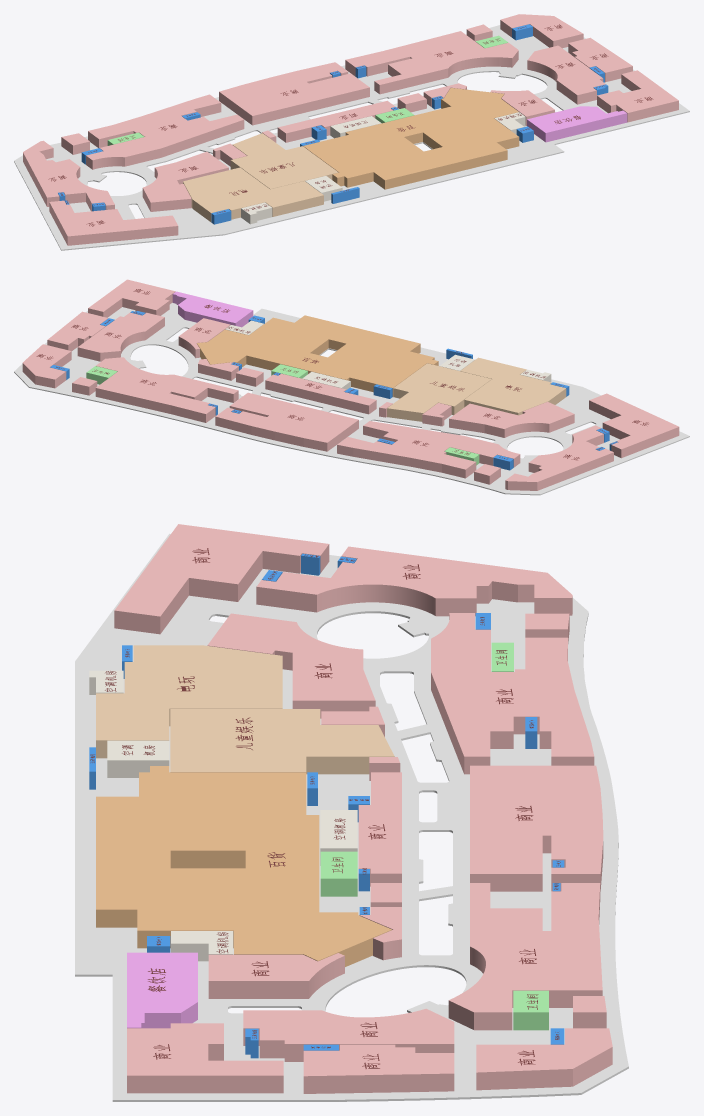
File: 广州万达_2F.fbx
3 views of the same model, one above another, from view 1: azimuth 30°, elevation 25°; view 2: azimuth 150°, elevation 25°; view 3: azimuth 270°, elevation 25° (orthographic). The views are drawn at different scales.
Visible parts, largest first — view 1: 商业, 楼板, 百货, 电玩, 儿童娱乐, 强弱电间, 餐饮, 设备房, 卫生间; view 2: 商业, 楼板, 百货, 儿童娱乐, 电玩, 餐饮, 强弱电间, 设备房, 卫生间; view 3: 商业, 楼板, 百货, 儿童娱乐, 电玩, 设备房, 餐饮, 强弱电间, 卫生间.
Part boxes in pixels (left/top/right/bottom): 商业: left=23, top=14, right=678, bottom=245; 楼板: left=14, top=25, right=689, bottom=250; 百货: left=303, top=88, right=519, bottom=189; 电玩: left=183, top=167, right=323, bottom=221; 儿童娱乐: left=230, top=133, right=338, bottom=189; 强弱电间: left=58, top=24, right=608, bottom=224; 餐饮: left=527, top=106, right=627, bottom=142; 设备房: left=241, top=112, right=525, bottom=224; 卫生间: left=107, top=35, right=507, bottom=145; 商业: left=22, top=279, right=679, bottom=490; 楼板: left=14, top=302, right=689, bottom=495; 百货: left=197, top=315, right=438, bottom=396; 儿童娱乐: left=387, top=363, right=491, bottom=421; 电玩: left=460, top=357, right=566, bottom=415; 餐饮: left=172, top=291, right=253, bottom=327; 强弱电间: left=50, top=311, right=617, bottom=470; 设备房: left=225, top=320, right=551, bottom=389; 卫生间: left=86, top=364, right=479, bottom=465; 商业: left=114, top=524, right=612, bottom=1093; 楼板: left=75, top=533, right=628, bottom=1101; 百货: left=96, top=766, right=391, bottom=966; 儿童娱乐: left=170, top=709, right=394, bottom=774; 电玩: left=96, top=645, right=282, bottom=758; 设备房: left=89, top=670, right=357, bottom=961; 餐饮: left=127, top=952, right=197, bottom=1028; 强弱电间: left=89, top=553, right=564, bottom=1058; 卫生间: left=320, top=642, right=548, bottom=1030.
Size of the model in its own units: 984 by 407 by 16.11.
